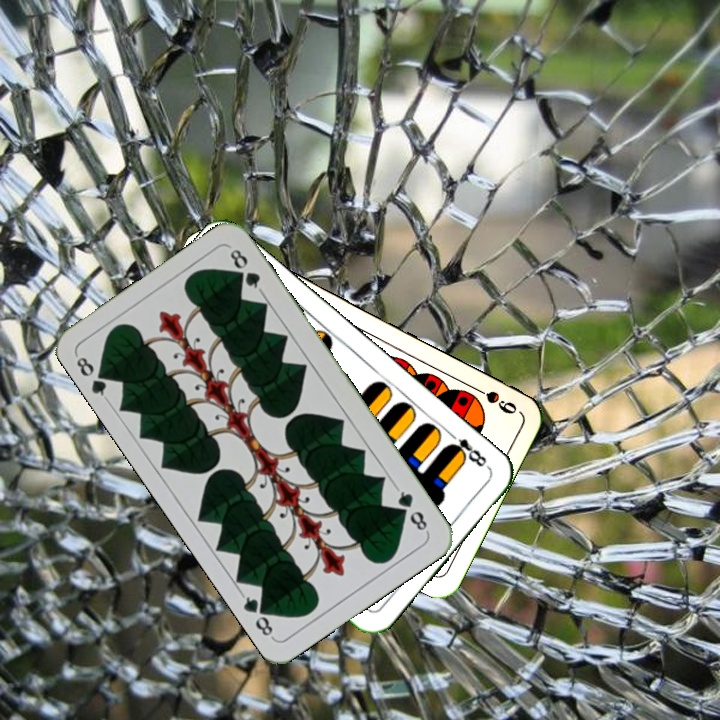E8: (442, 427, 489, 470)
G8: (71, 351, 114, 403), (391, 483, 431, 535)
S9: (465, 380, 520, 417)
